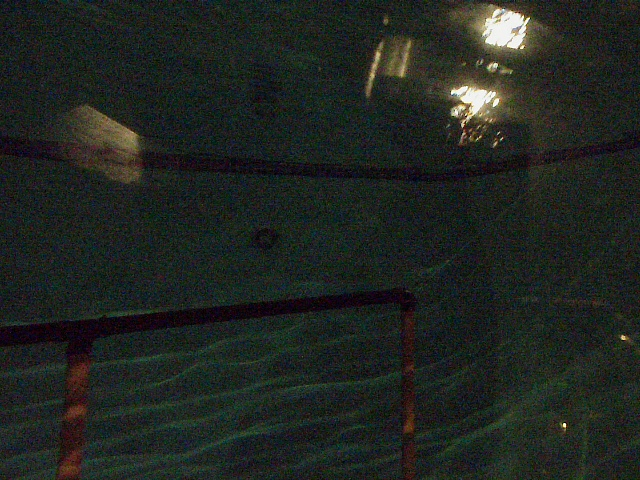Gate: (52, 346, 96, 479), (398, 305, 421, 479)
